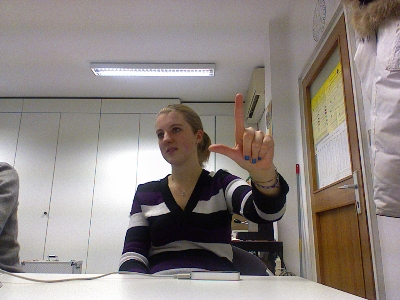枪: (207, 91, 274, 172)
